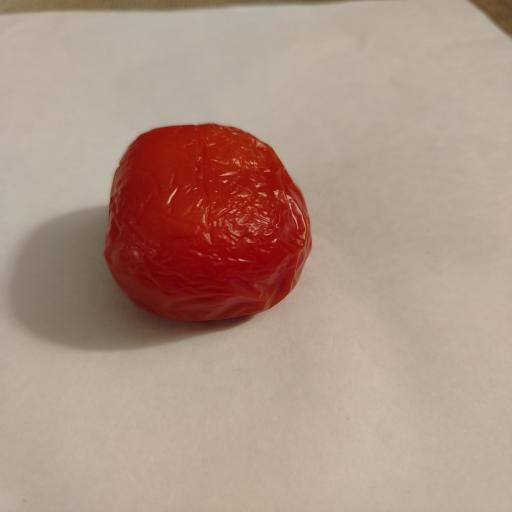spoiled: (104, 124, 311, 321)
